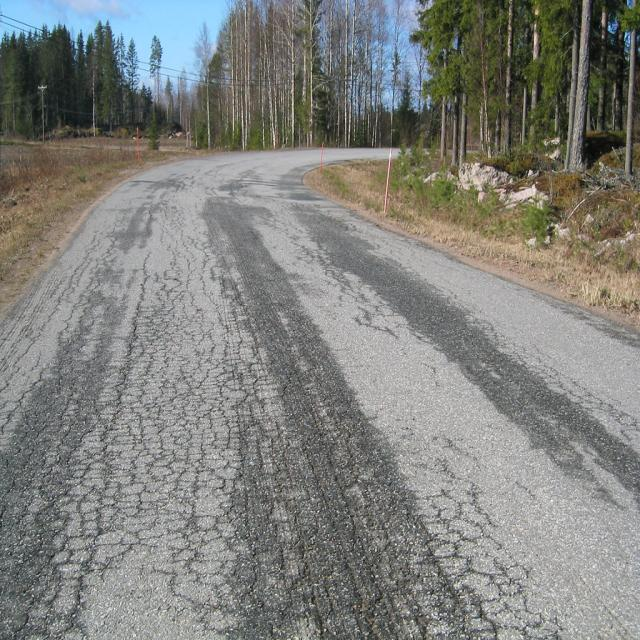Drain Hole: (35, 237, 587, 636)
